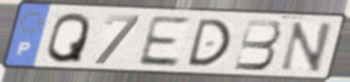7: (93, 13, 142, 66)
B: (231, 18, 283, 72)
D: (184, 17, 233, 68)
E: (134, 14, 192, 68)
N: (276, 20, 335, 74)
Q: (44, 11, 93, 65)
